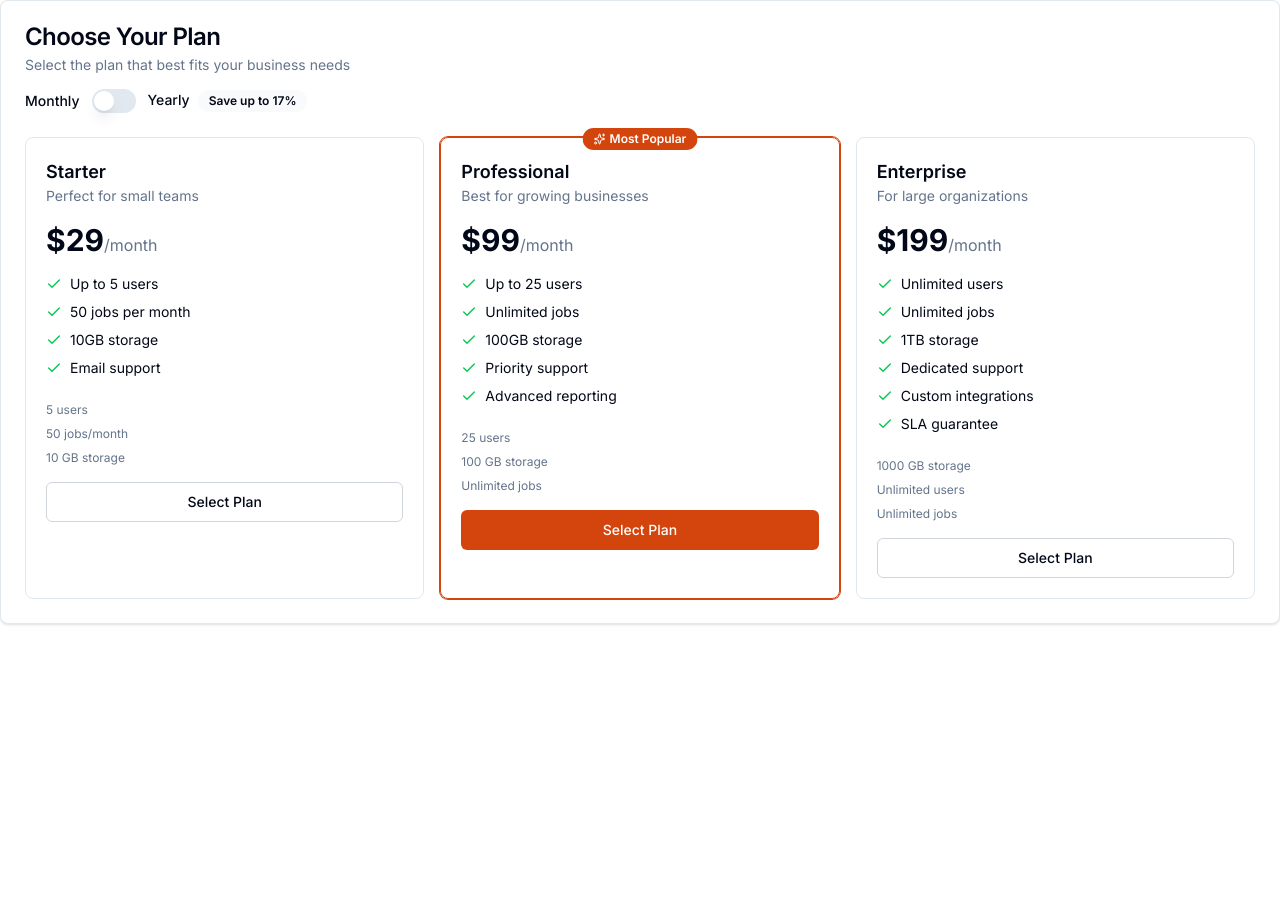
PlanSelector › should show yearly prices when yearly billing is selected
Click the switch at (114, 101), box [92, 89, 136, 113]
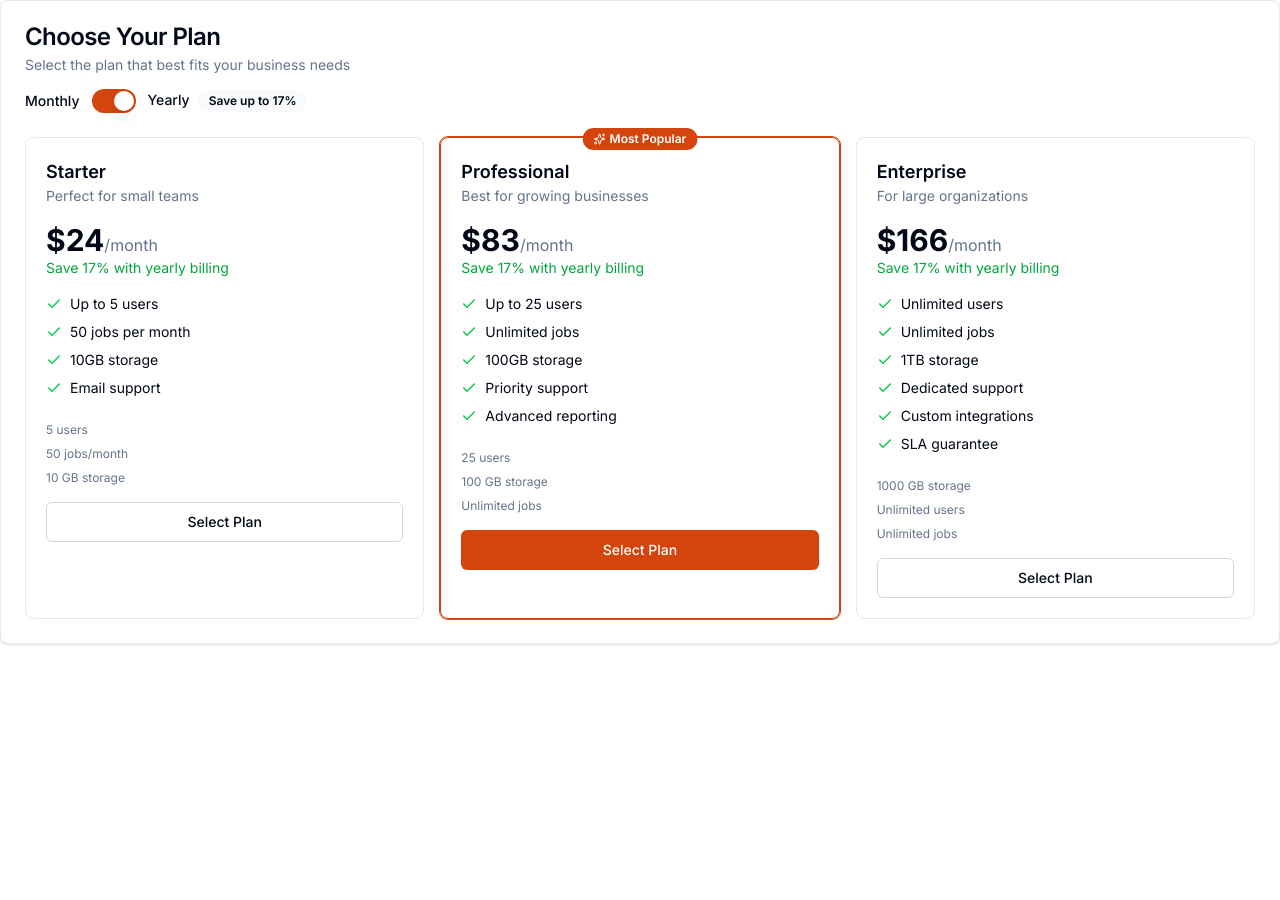
Expected: the text "$24" is shown, [46, 222, 104, 258]
Expected: the text "$83" is shown, [461, 222, 520, 258]
Expected: the text "$166" is shown, [877, 222, 948, 258]
